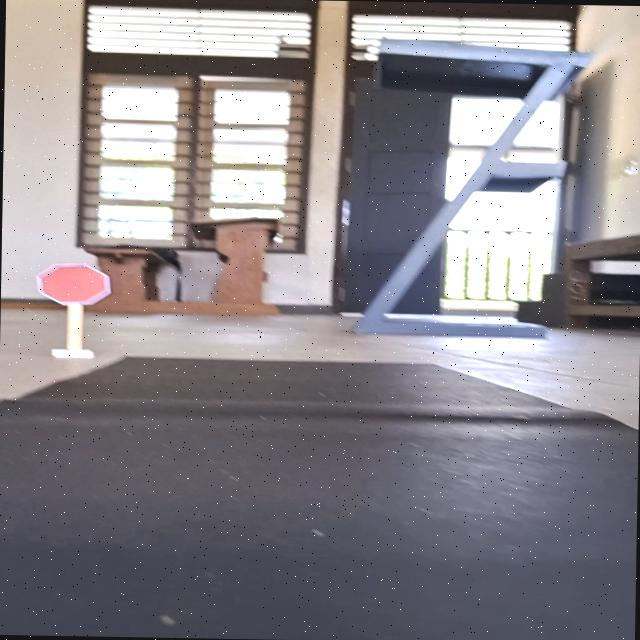Stop: (36, 260, 114, 307)
